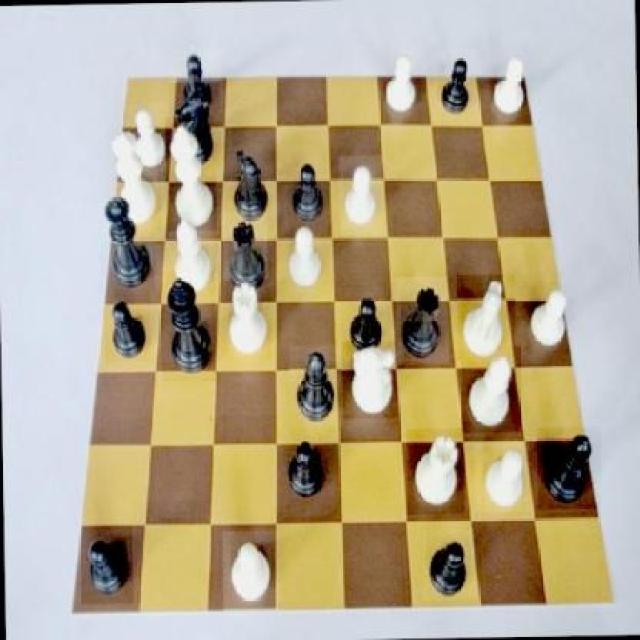bishop: (537, 428, 601, 510), (288, 344, 340, 428)
black-bishop: (99, 189, 156, 293)
black-king: (169, 81, 220, 170), (226, 143, 273, 225)
black-knight: (80, 524, 134, 606), (422, 529, 474, 600), (103, 290, 150, 362), (282, 434, 328, 507), (283, 157, 331, 226), (171, 51, 223, 114), (434, 50, 480, 121), (345, 291, 387, 357)
black-pawn: (160, 270, 217, 382)
black-queen: (396, 277, 448, 365), (223, 211, 268, 294)
black-rook: (462, 346, 522, 433), (168, 211, 215, 301)
white-bishop: (165, 117, 217, 232)
white-king: (457, 274, 516, 361), (341, 340, 397, 419)
white-knight: (222, 530, 278, 612), (475, 443, 531, 514), (523, 281, 575, 354), (340, 156, 385, 236), (486, 49, 532, 119), (285, 222, 329, 294), (126, 103, 169, 172), (382, 54, 424, 121)
white-pawn: (106, 125, 162, 232)
white-queen: (406, 428, 464, 514), (222, 278, 272, 361)
